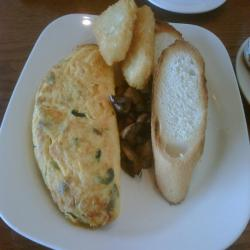bread: (147, 40, 212, 201)
omelette: (31, 42, 130, 229)
